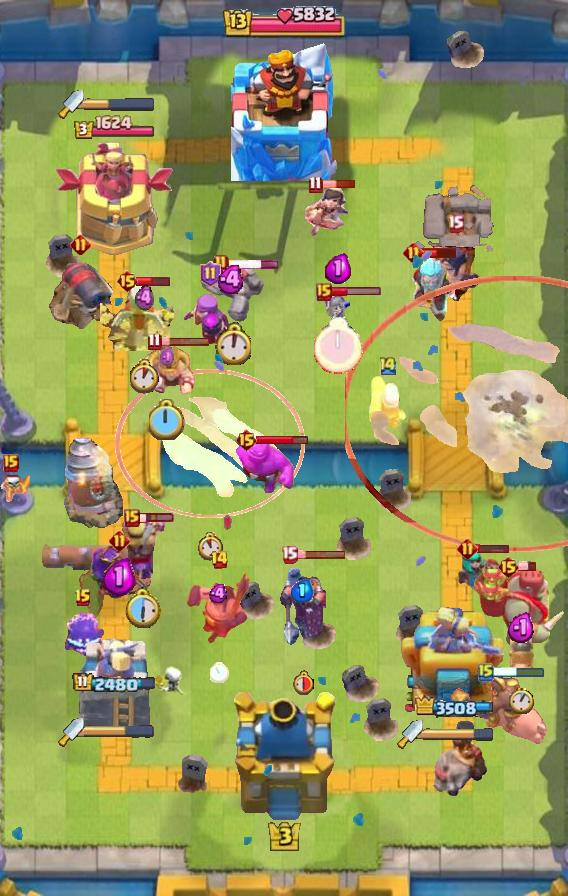arrows: (117, 516, 167, 582)
bar: (54, 142, 173, 256), (399, 607, 507, 731), (77, 637, 151, 731)
barbarian-hut: (78, 543, 160, 625)
clock: (221, 3, 347, 43)
electro-spirit: (103, 558, 135, 596), (508, 612, 536, 644), (217, 266, 247, 294), (325, 252, 351, 283), (134, 283, 154, 312), (290, 579, 313, 603), (209, 584, 229, 603), (160, 346, 177, 368)
elite-barbarian: (428, 721, 488, 797)
elixir: (313, 318, 362, 375), (123, 587, 161, 629), (214, 323, 251, 366), (149, 399, 185, 441), (127, 359, 161, 393), (196, 532, 224, 560), (509, 686, 534, 714), (290, 670, 313, 695), (210, 661, 230, 683)
elixir-golem-big: (278, 556, 326, 646)
emote: (492, 665, 545, 679), (227, 259, 280, 270), (256, 434, 309, 445), (159, 336, 211, 347), (295, 549, 347, 560), (331, 287, 382, 298), (422, 245, 459, 259), (138, 512, 175, 524), (137, 275, 172, 287), (474, 542, 509, 553), (320, 179, 355, 189), (518, 560, 537, 571)
executioner: (505, 621, 537, 675)
freeze: (447, 670, 551, 744)
goblin: (325, 293, 351, 331)
goblin-giant: (139, 344, 195, 398)
heal-spirit: (152, 665, 186, 699), (0, 470, 30, 502)
ice-wizard: (115, 370, 305, 519)
king-tower: (227, 692, 341, 826), (231, 43, 337, 181)
king-tower-bar: (84, 97, 156, 111), (423, 727, 495, 741), (84, 725, 154, 739)
lava-hound: (472, 568, 568, 654)
magic-archer: (63, 437, 123, 529)
minion: (39, 536, 139, 574)
monk: (185, 570, 253, 646), (427, 232, 483, 304)
mortar: (396, 252, 462, 324)
poison: (100, 277, 188, 351)
rascal-girl: (183, 292, 237, 354)
royal-ghost: (344, 276, 568, 552)
royal-giant-evolution: (46, 259, 114, 329)
selected: (72, 115, 155, 141), (71, 672, 156, 696), (413, 694, 493, 717)
skeleton-dragon: (300, 182, 350, 238)
spear-goblin: (59, 610, 107, 656)
text: (116, 269, 139, 293), (235, 428, 258, 452), (496, 555, 519, 579), (199, 261, 220, 287), (69, 233, 91, 254), (403, 241, 424, 263), (458, 537, 479, 559), (110, 530, 131, 551), (378, 355, 398, 377), (210, 550, 230, 570), (74, 588, 92, 608), (447, 215, 465, 233), (281, 545, 298, 564), (213, 254, 229, 274), (478, 662, 494, 682), (316, 283, 332, 301), (3, 454, 19, 472), (124, 509, 140, 527), (147, 332, 162, 351), (309, 175, 323, 193)
tombstone: (367, 373, 409, 431)
tornado: (227, 439, 295, 495)
valkyrie-evolution: (200, 263, 264, 323)
witch: (456, 545, 502, 599)
